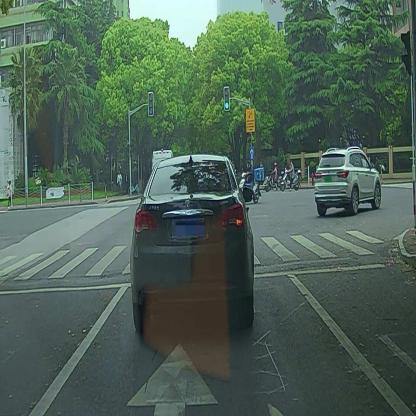Green Light: (223, 84, 230, 113)
